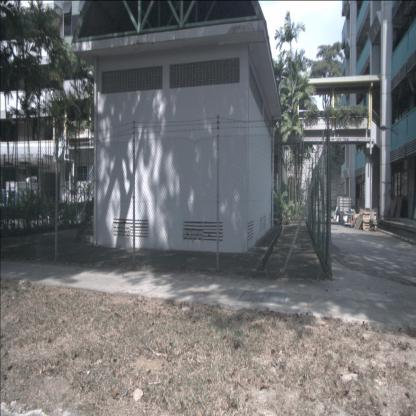vehicle-truck: (0, 181, 41, 222)
